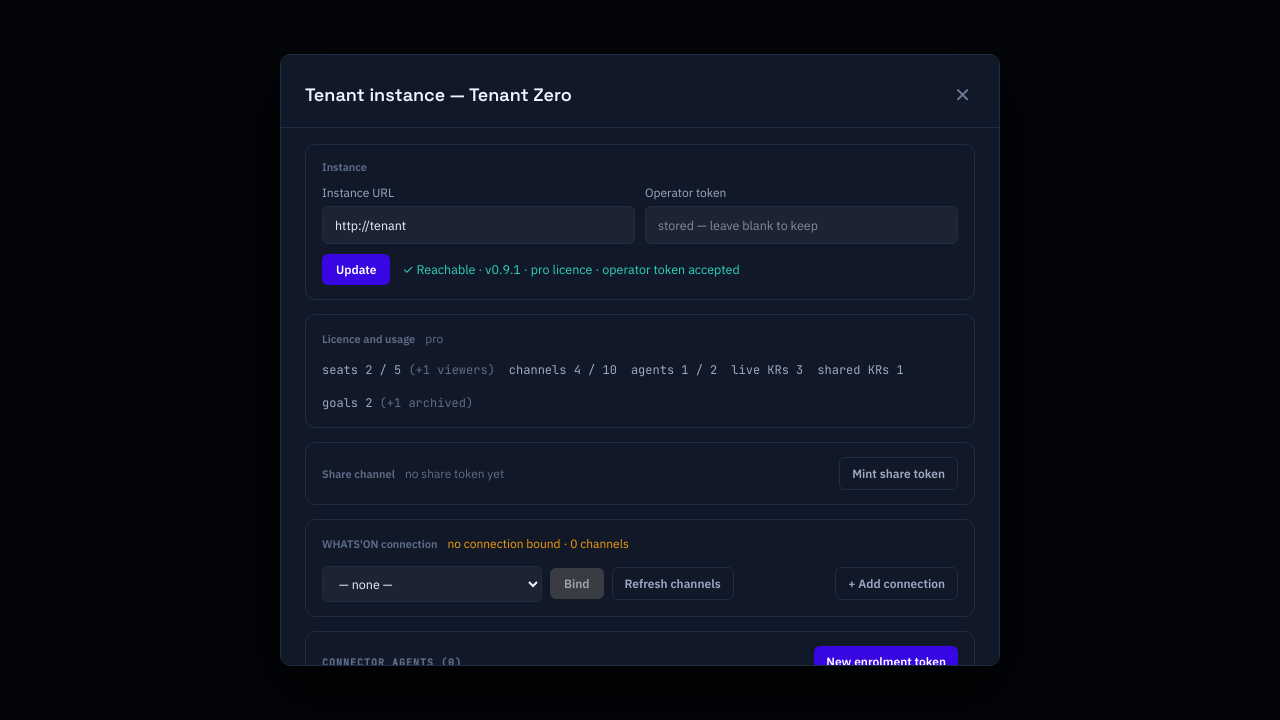
Test case: TenantModal › shows reachability, lists tenant connections, and binds the chosen one
Expected: the text "✓ Reachable · v0.9.1 · pro licence · operator token accepted" is shown, [402,261,740,277]
Expected: the element with test id "tenant-usage" shows "seats 2 / 5", [322,361,958,413]
Select "PSI (postgres · db:5432/w)" in the dropdown named "Tenant connection": (432, 584) [322,566,542,602]
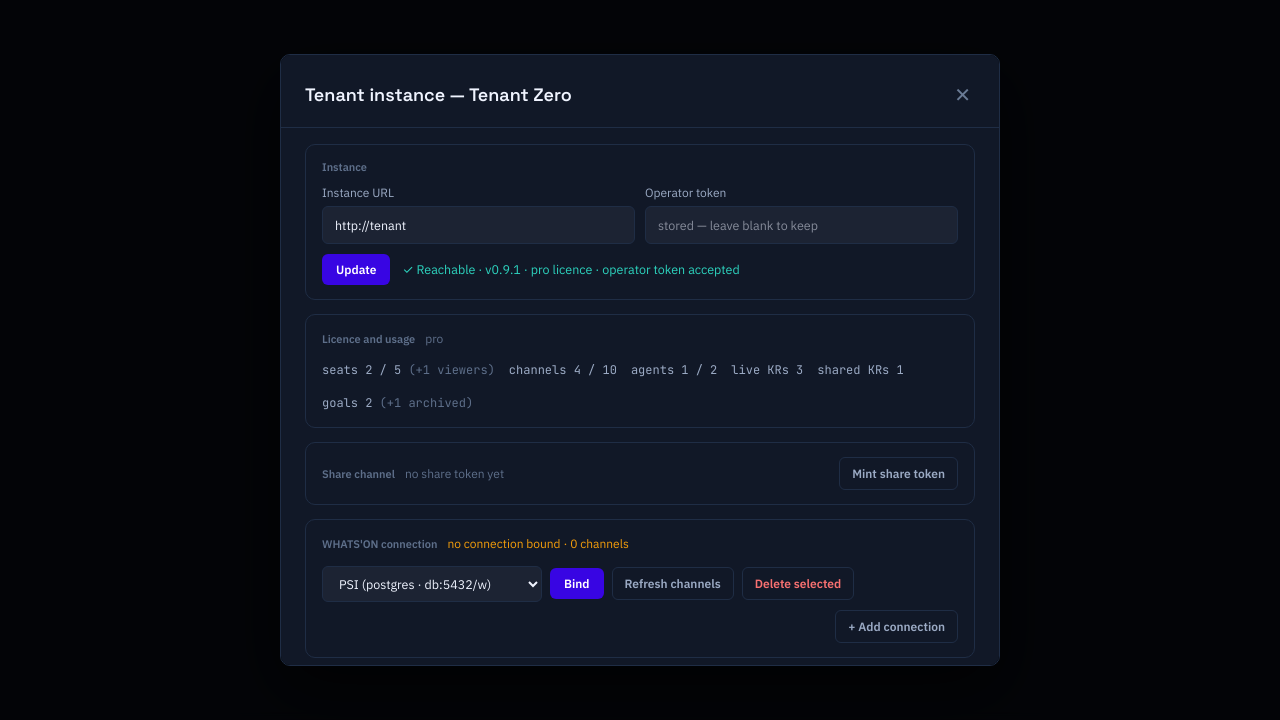
Click the button "Bind": (577, 584) [550,568,604,599]
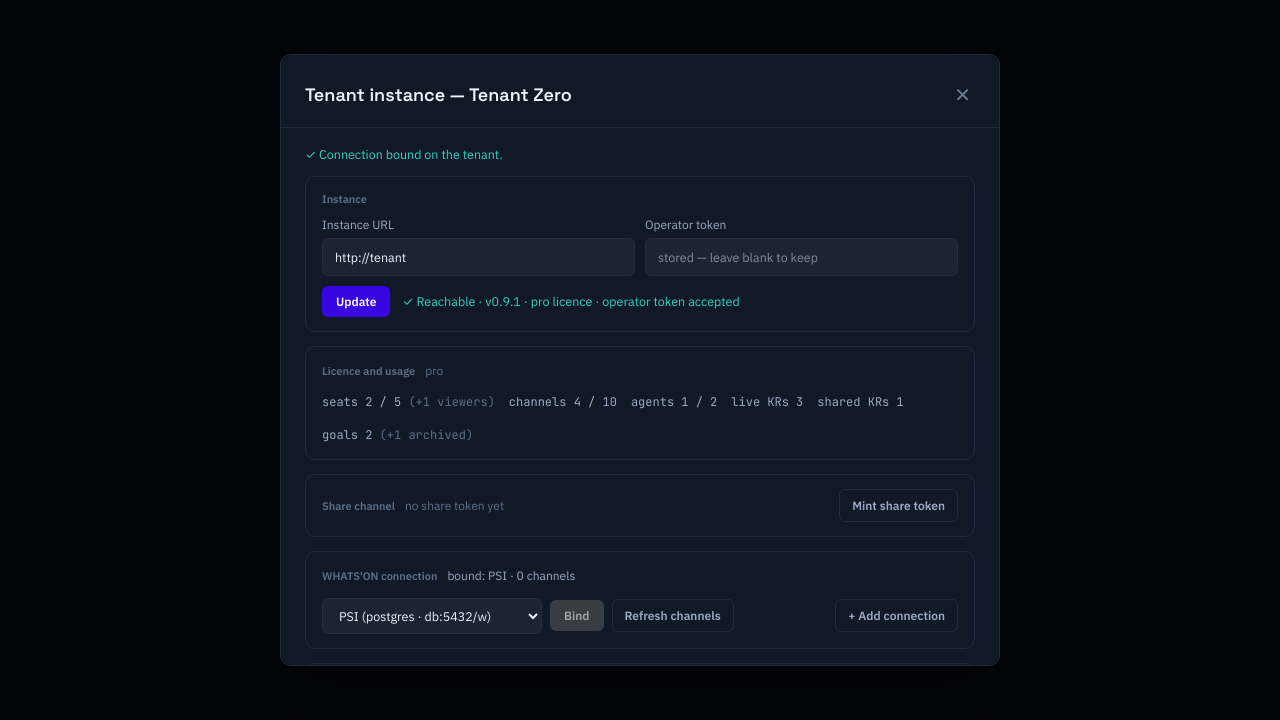
Now the text "bound: PSI · 0 channels" is shown, box [447,566,575,585]
